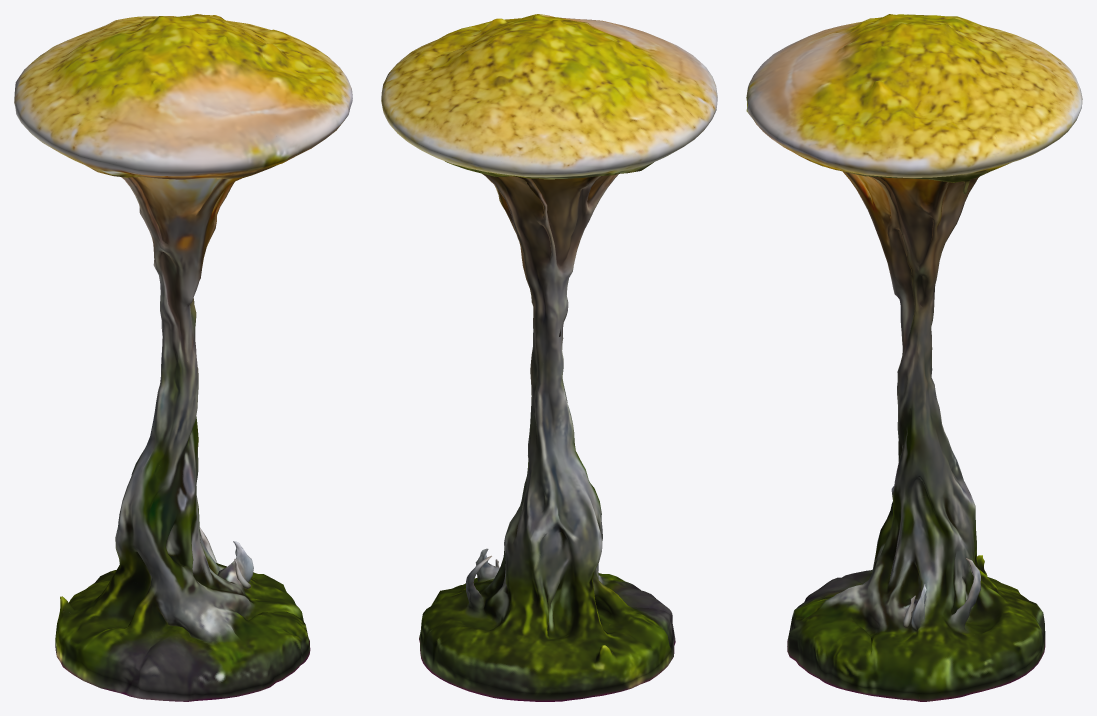
Rendered from mushroom_lamp_lowpoly.glb.
The picture shows the model from 3 angles, left to right: view 1: azimuth 30°, elevation 25°; view 2: azimuth 150°, elevation 25°; view 3: azimuth 270°, elevation 25°; orthographic projection.
Parts seen in each view (by area): view 1: geometry_0; view 2: geometry_0; view 3: geometry_0.
Part boxes in pixels (<box>): geometry_0: <box>14,14,352,701</box>; geometry_0: <box>381,14,717,701</box>; geometry_0: <box>746,14,1082,701</box>.
Bounding box in the file's own units: 0.4683 × 0.9512 × 0.4673.
Materials: 1 (1 with a texture image).
